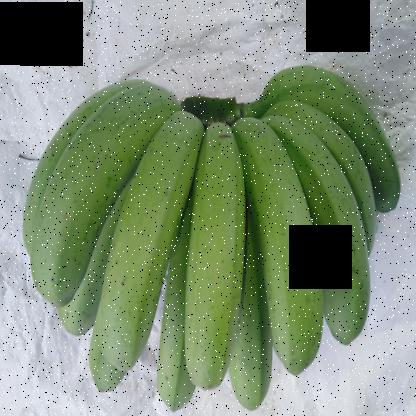freshunripe: (35, 69, 159, 323), (258, 106, 377, 367), (101, 94, 207, 375), (235, 91, 327, 391), (182, 83, 262, 402)
